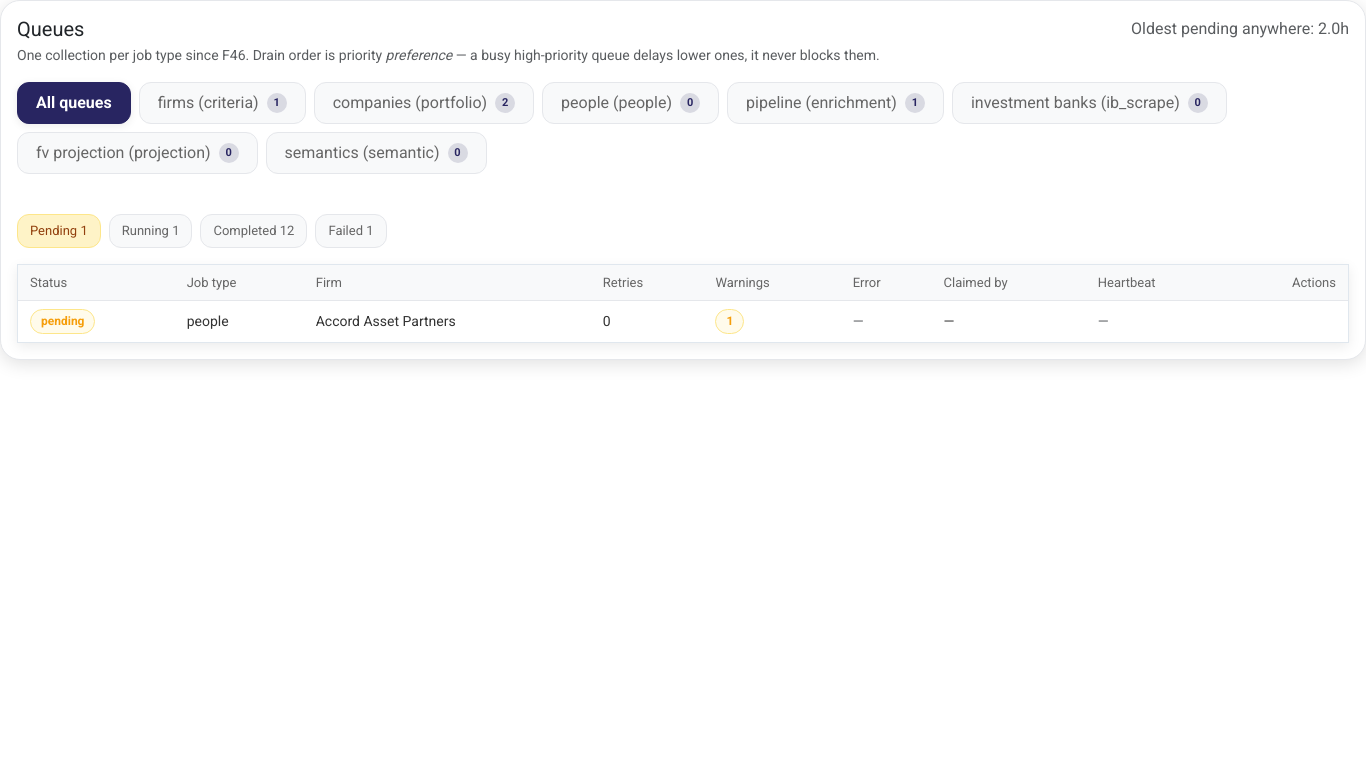
Test: QueuesPanel pagination › renders pagination when the total exceeds one page
Step 1. Click the tab "companies (portfolio) 2" → click(424, 103), box [314, 82, 534, 124]
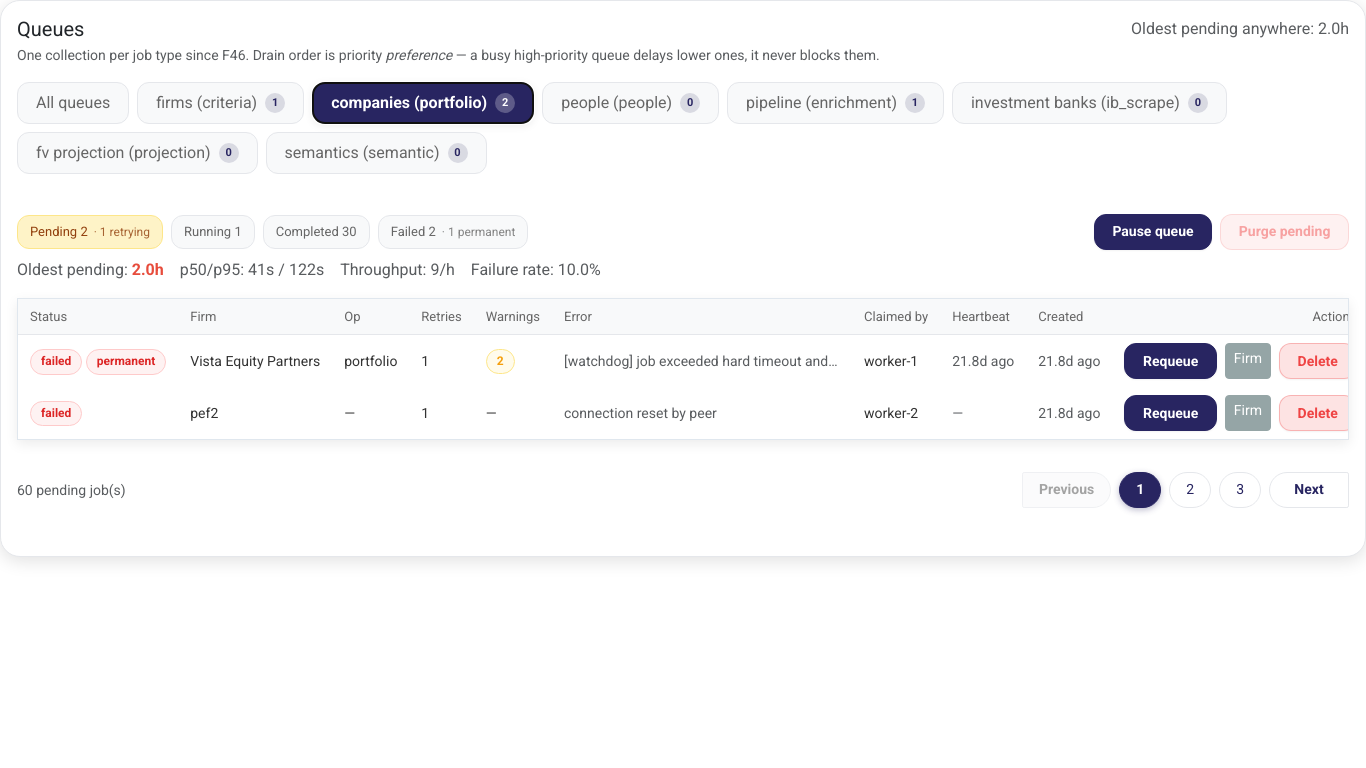
expect the text "60 pending job(s)" is shown: met, box [17, 480, 126, 501]
expect the navigation bar named "pagination" is shown: met, box [1022, 472, 1349, 524]
